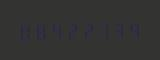eight: (33, 20, 48, 40)
four: (49, 20, 64, 40)
nine: (129, 19, 144, 38)
seven: (97, 19, 112, 39)
three: (113, 19, 128, 39)
two: (81, 19, 96, 39), (65, 20, 80, 39)
zero: (17, 21, 32, 40)
